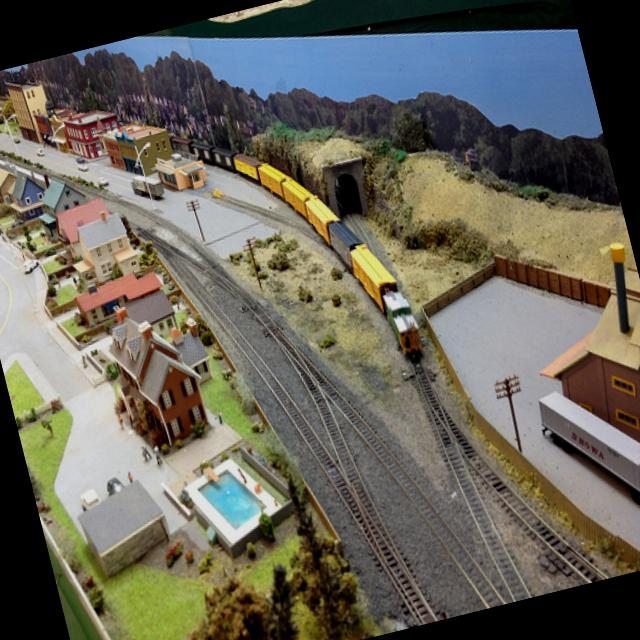Vehicle: (532, 362, 640, 559)
